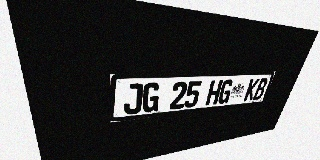2: (169, 81, 188, 110)
5: (184, 81, 202, 108)
B: (252, 78, 269, 100)
G: (142, 82, 161, 113), (217, 79, 234, 104)
H: (205, 80, 223, 106)
J: (124, 83, 143, 115)
K: (243, 78, 260, 101)
